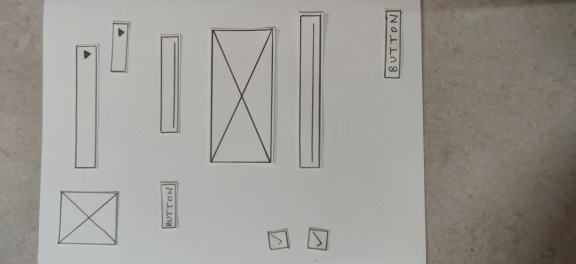button: (382, 7, 403, 80), (158, 180, 180, 230)
checkbox: (305, 225, 330, 254), (264, 226, 291, 252)
dropdown: (72, 42, 100, 172), (109, 20, 131, 75)
img: (208, 26, 276, 168), (56, 189, 121, 249)
text: (296, 10, 326, 171), (158, 31, 182, 138)
